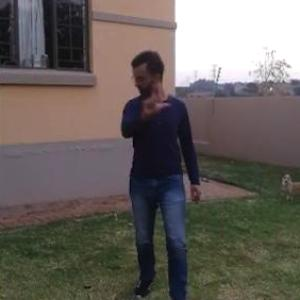land_hand: (140, 81, 172, 117)
